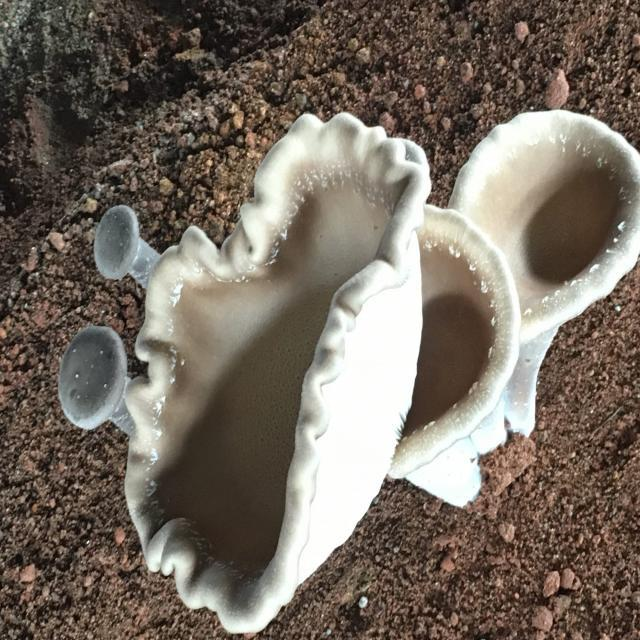Clitocybe maxima: (135, 117, 423, 621), (411, 114, 635, 515), (59, 319, 134, 428), (101, 205, 158, 287)
